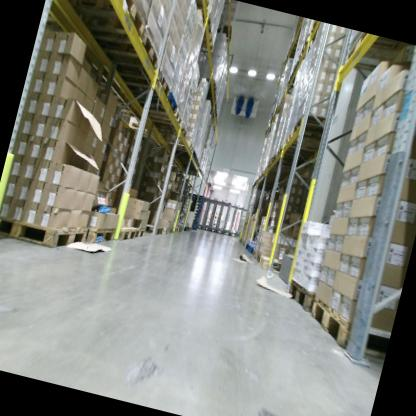pallet: (302, 297, 394, 363), (44, 0, 153, 51), (0, 204, 88, 259), (85, 17, 166, 73), (345, 31, 415, 80), (107, 57, 174, 103), (121, 78, 182, 118), (132, 95, 186, 130), (284, 126, 325, 157), (291, 108, 329, 141), (149, 111, 191, 138), (286, 281, 319, 313), (82, 219, 118, 248), (273, 143, 314, 167), (164, 132, 196, 153), (196, 31, 217, 55), (258, 255, 284, 274), (117, 223, 138, 245), (189, 0, 213, 19), (173, 145, 198, 161), (201, 16, 217, 39), (143, 222, 164, 236), (133, 225, 146, 241), (160, 224, 171, 236), (255, 251, 264, 265), (252, 249, 259, 261), (246, 243, 253, 255), (173, 225, 180, 235), (250, 246, 255, 257), (169, 225, 175, 234), (178, 225, 184, 234), (242, 240, 247, 249), (188, 225, 194, 232), (245, 243, 249, 250)
